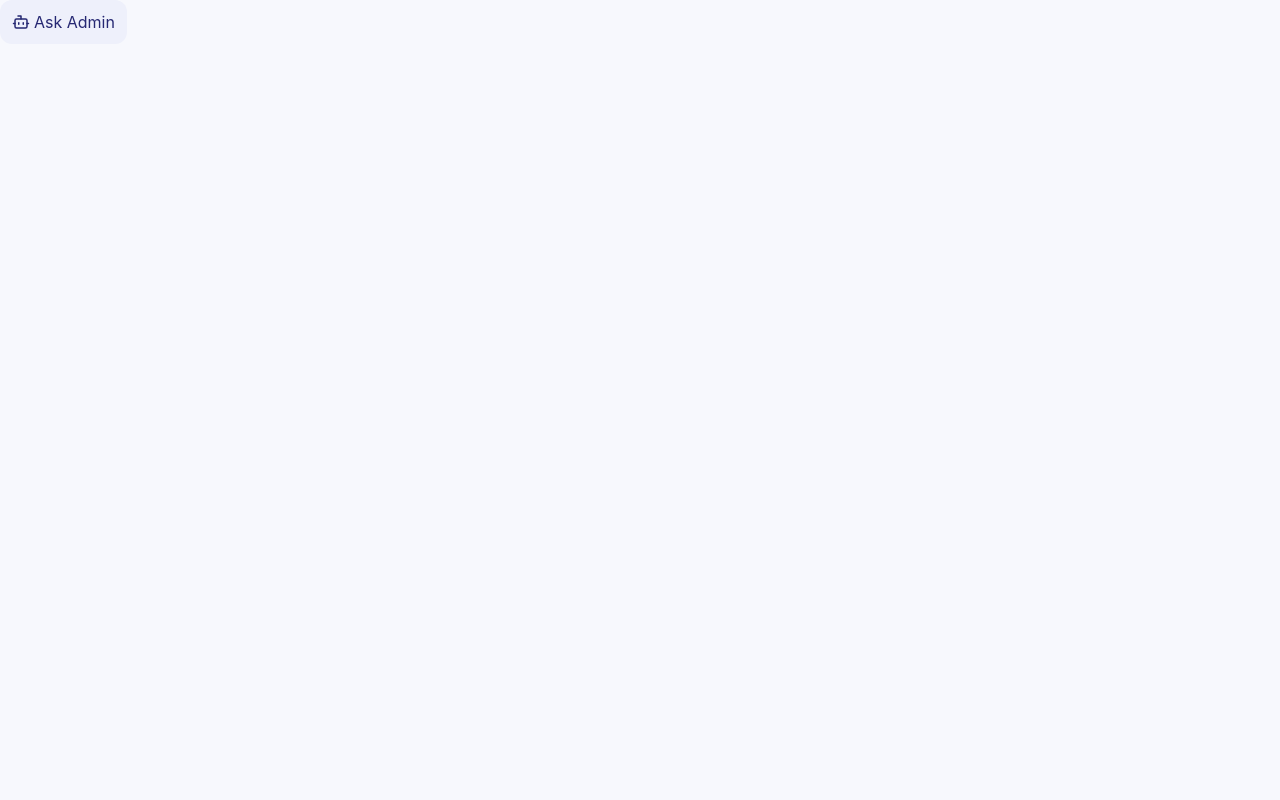
Test: Ask Admin › opens a matched page in the same tab using the authorized menu URL
This screenshot has width=1280, height=800.
Click the button "Ask Admin": (64, 22) [0, 0, 127, 44]
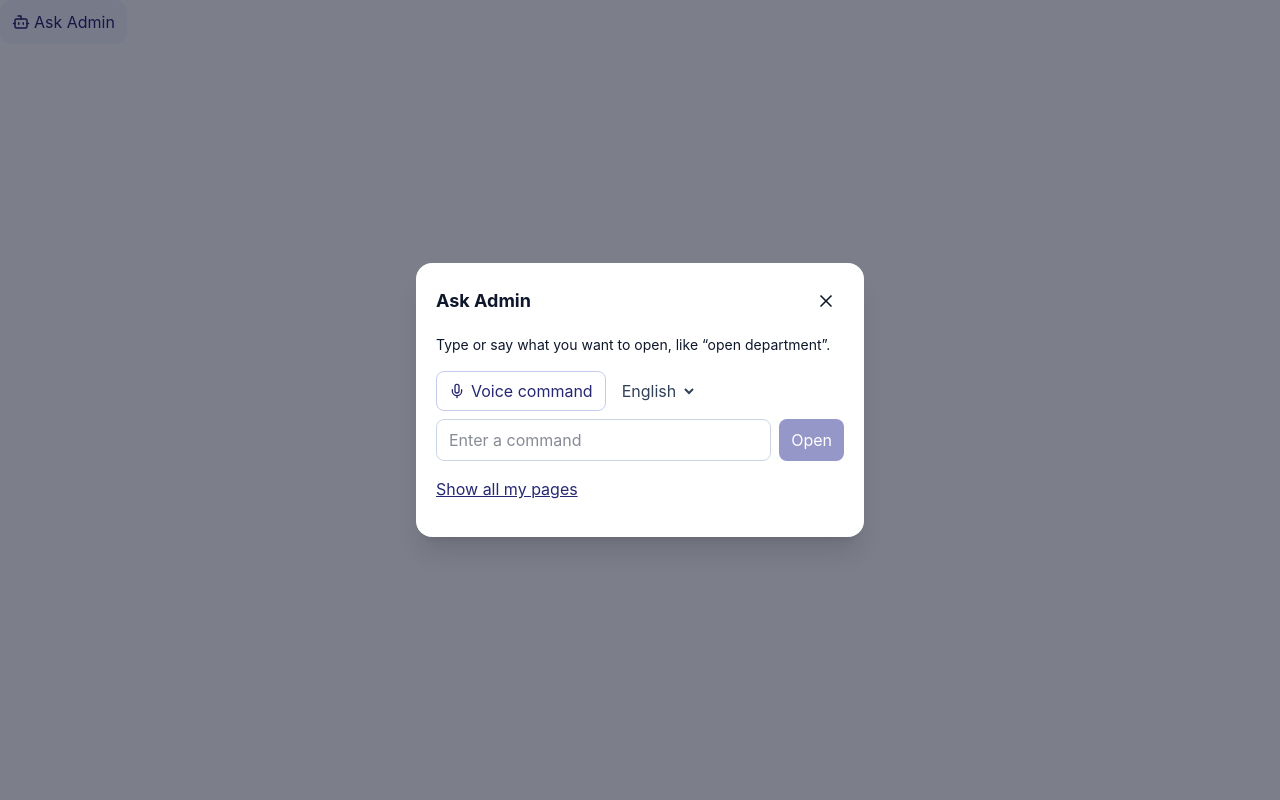
In the field: (604, 440) [436, 419, 771, 461], type "open department"
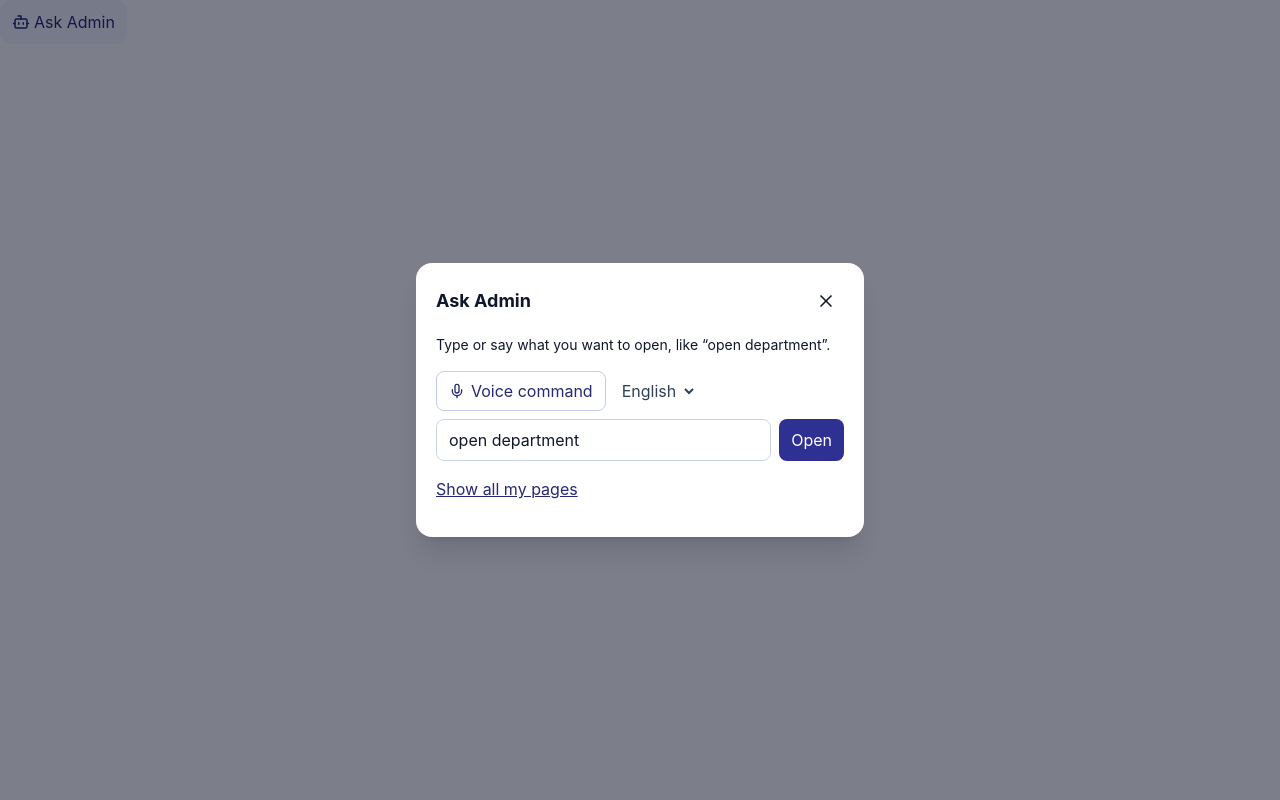
Click the button "Open": (812, 440) [779, 419, 844, 461]
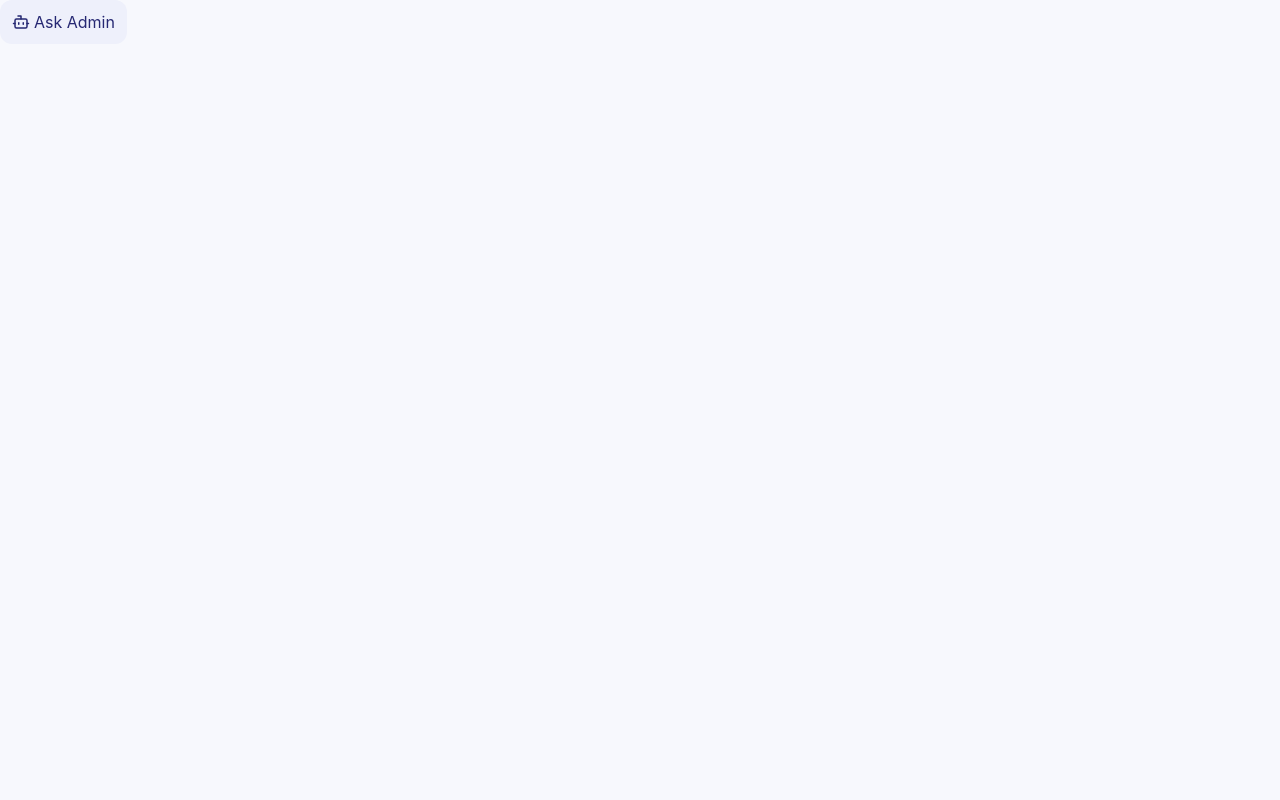
Now the dialog is gone
